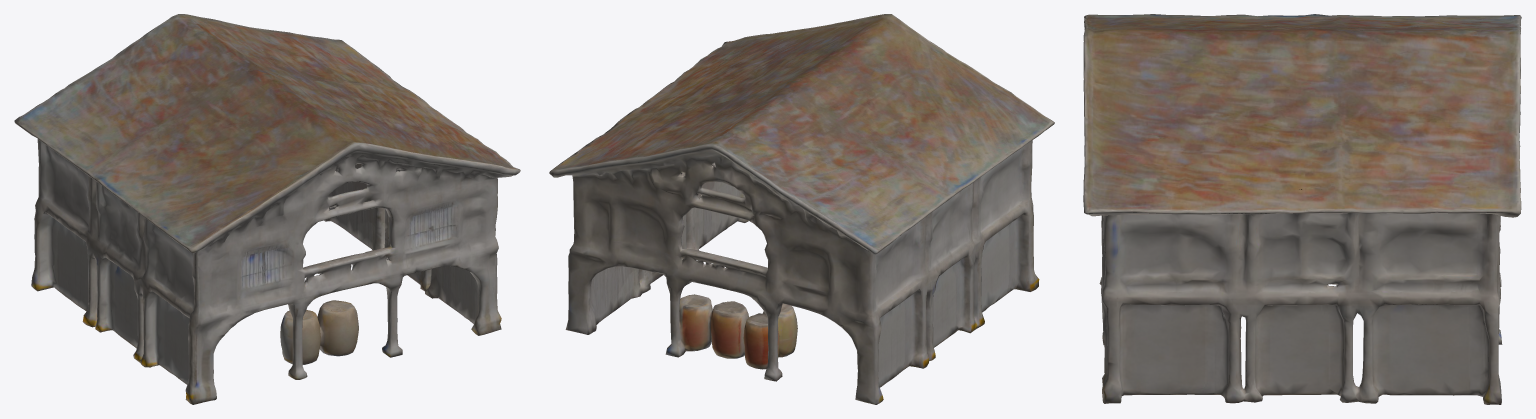
The picture shows the model from 3 angles, left to right: view 1: azimuth 30°, elevation 25°; view 2: azimuth 150°, elevation 25°; view 3: azimuth 270°, elevation 25°; orthographic projection. The views are drawn at different scales.
Parts seen in each view (by area): view 1: file1; view 2: file1; view 3: file1.
Part boxes in pixels (left/top/right/bottom): file1: left=14, top=14, right=520, bottom=404; file1: left=549, top=14, right=1054, bottom=404; file1: left=1083, top=14, right=1521, bottom=404.
Size of the model in its own units: 2.01 by 1.34 by 1.88.
1 material, 1 textured.
